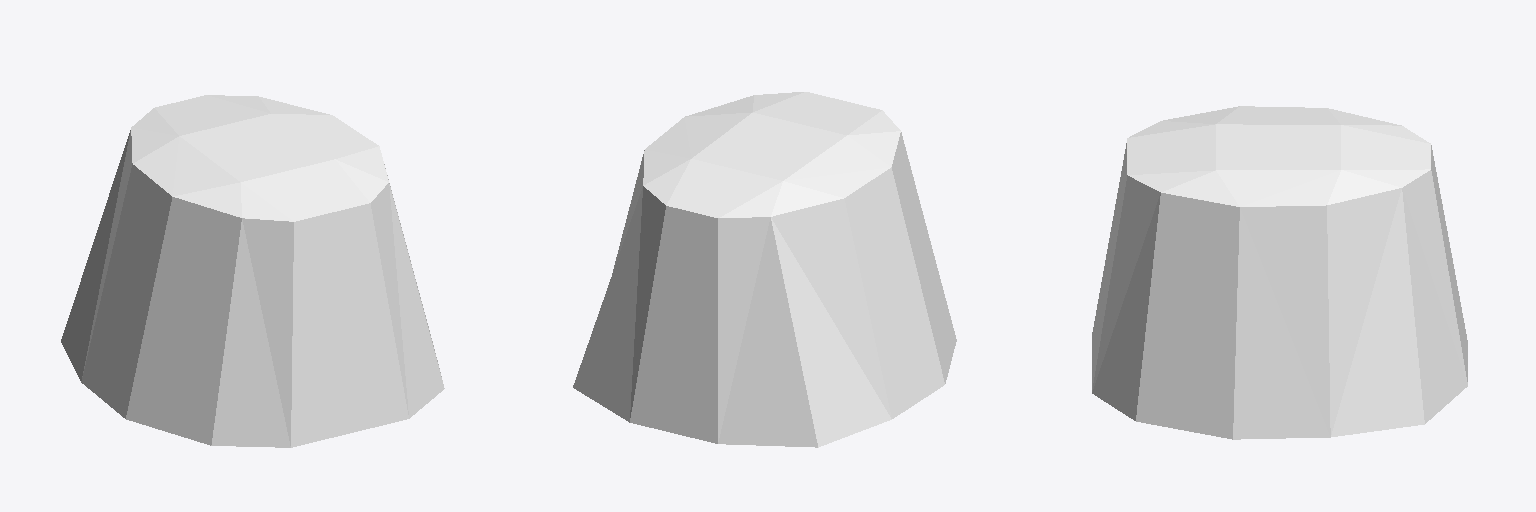
Rendered from Neck.obj.
3 renders of one model, left to right at view 1: azimuth 30°, elevation 25°; view 2: azimuth 150°, elevation 25°; view 3: azimuth 270°, elevation 25°, orthographic.
Visible parts, largest first — view 1: Neck1; view 2: Neck1; view 3: Neck1.
Part boxes in pixels (x1,y1,x2,y2): Neck1: (61, 95, 444, 447); Neck1: (573, 92, 956, 447); Neck1: (1092, 106, 1467, 439).
Bounding box in the file's own units: 1.95 × 1.32 × 2.07.